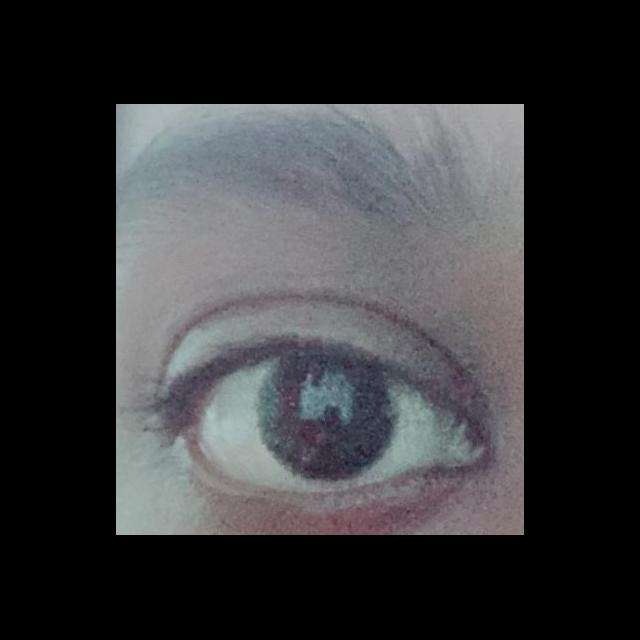eye: (184, 348, 465, 499)
iris: (257, 354, 397, 486)
